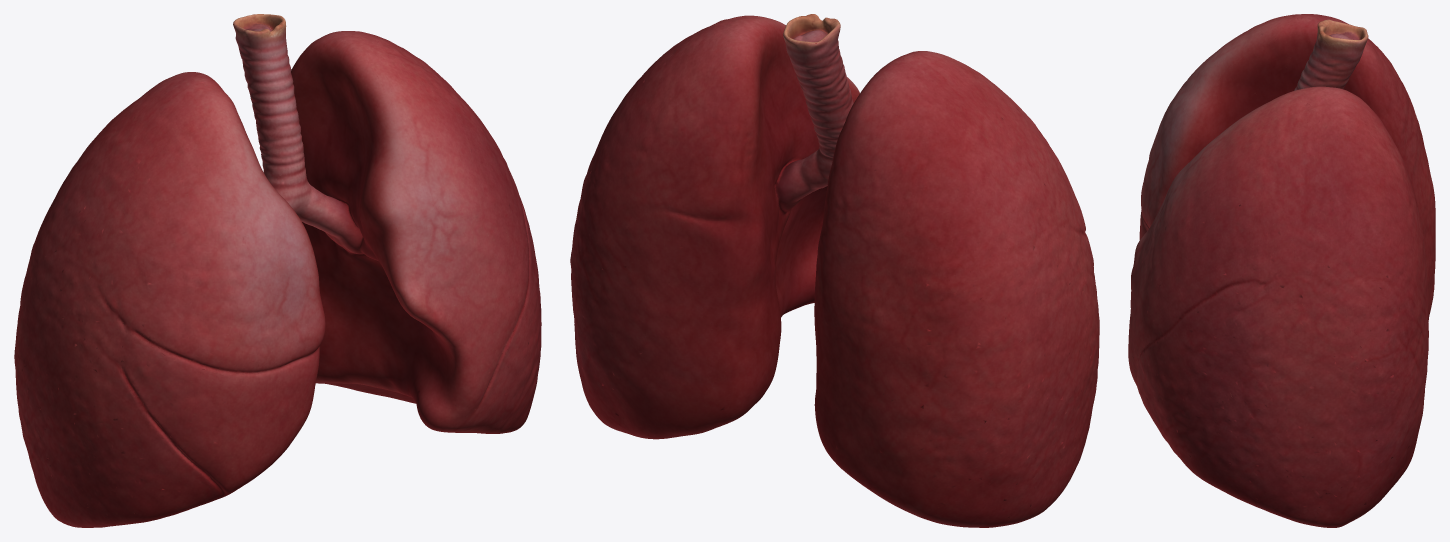
File: Pulmones.glb
3 views of the same model, side by side, from view 1: azimuth 30°, elevation 25°; view 2: azimuth 150°, elevation 25°; view 3: azimuth 270°, elevation 25° (orthographic). The views are drawn at different scales.
Parts seen in each view (by area): view 1: world; view 2: world; view 3: world.
Part boxes in pixels (<box>): world: <box>14,14,541,527</box>; world: <box>570,14,1099,527</box>; world: <box>1128,14,1435,527</box>.
Bounding box in the file's own units: 1 × 0.9094 × 0.6181.
1 material, 1 textured.
